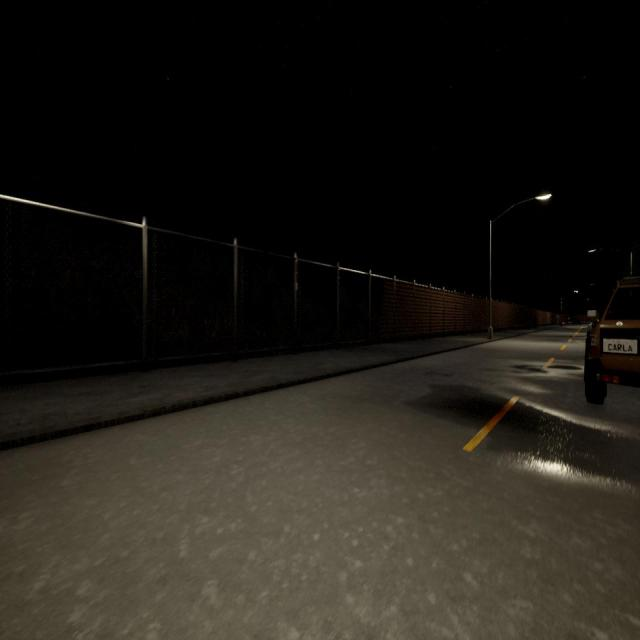Vehicle: (584, 277, 640, 404)
